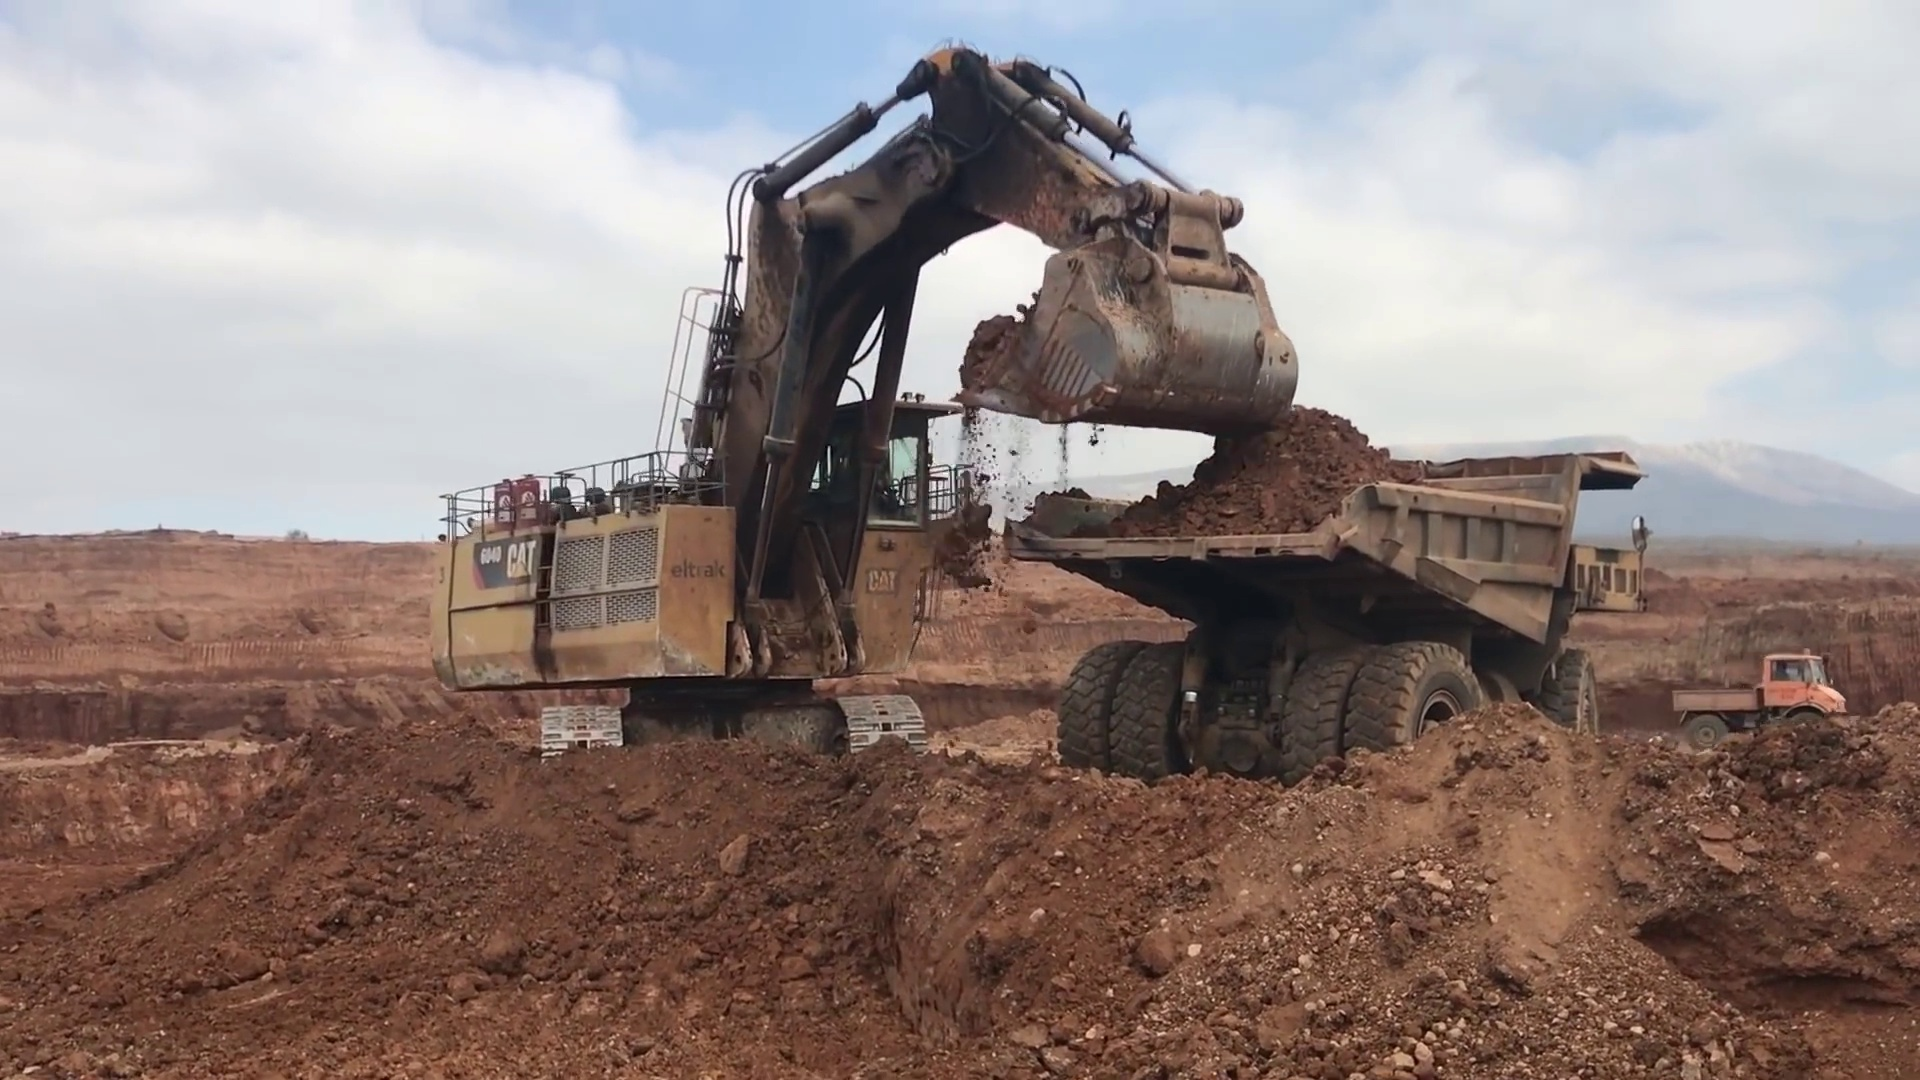dumper: (1002, 444, 1652, 803)
excavator: (429, 41, 1305, 796)
truck: (1669, 650, 1859, 750)
